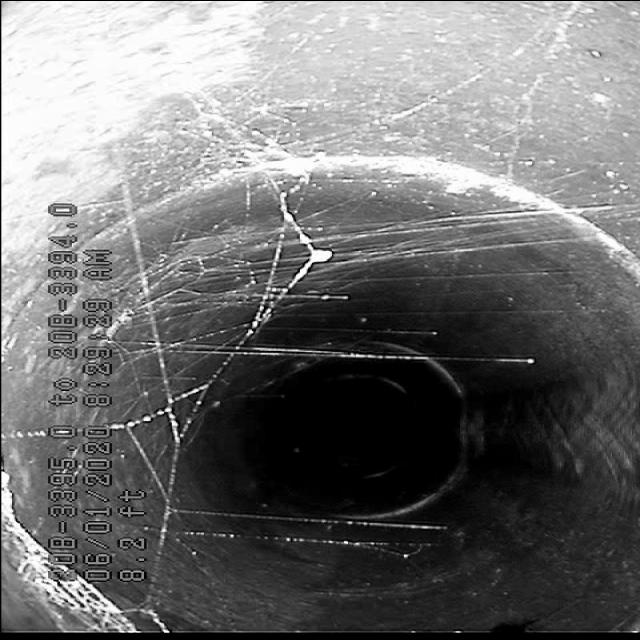Crack: (428, 19, 610, 210)
